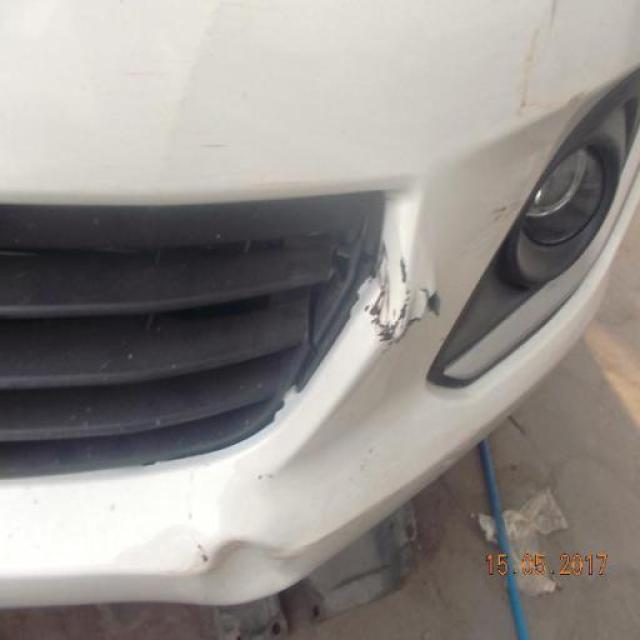dent: (203, 534, 304, 606), (116, 521, 211, 584)
scratch: (159, 0, 234, 159), (361, 244, 447, 357), (517, 0, 588, 116), (488, 199, 521, 234)
